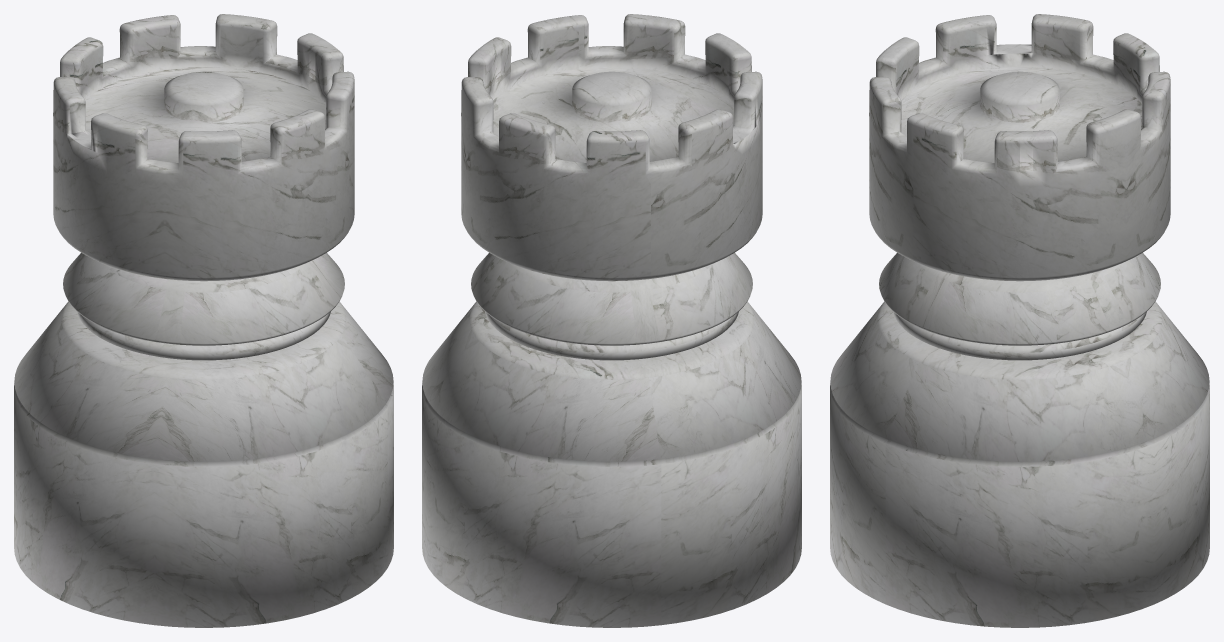
The model's file is ALL.gltf.
3 views of the same model, side by side, from view 1: azimuth 30°, elevation 25°; view 2: azimuth 150°, elevation 25°; view 3: azimuth 270°, elevation 25° (orthographic).
Parts seen in each view (by area): view 1: RookBlack1; view 2: RookBlack1; view 3: RookBlack1.
Part boxes in pixels (x1,y1,x2,y2): RookBlack1: (14, 14, 393, 627); RookBlack1: (422, 14, 801, 627); RookBlack1: (830, 14, 1209, 627).
Bounding box in the file's own units: 0.0182 × 0.025 × 0.0182.
1 material, 1 textured.
